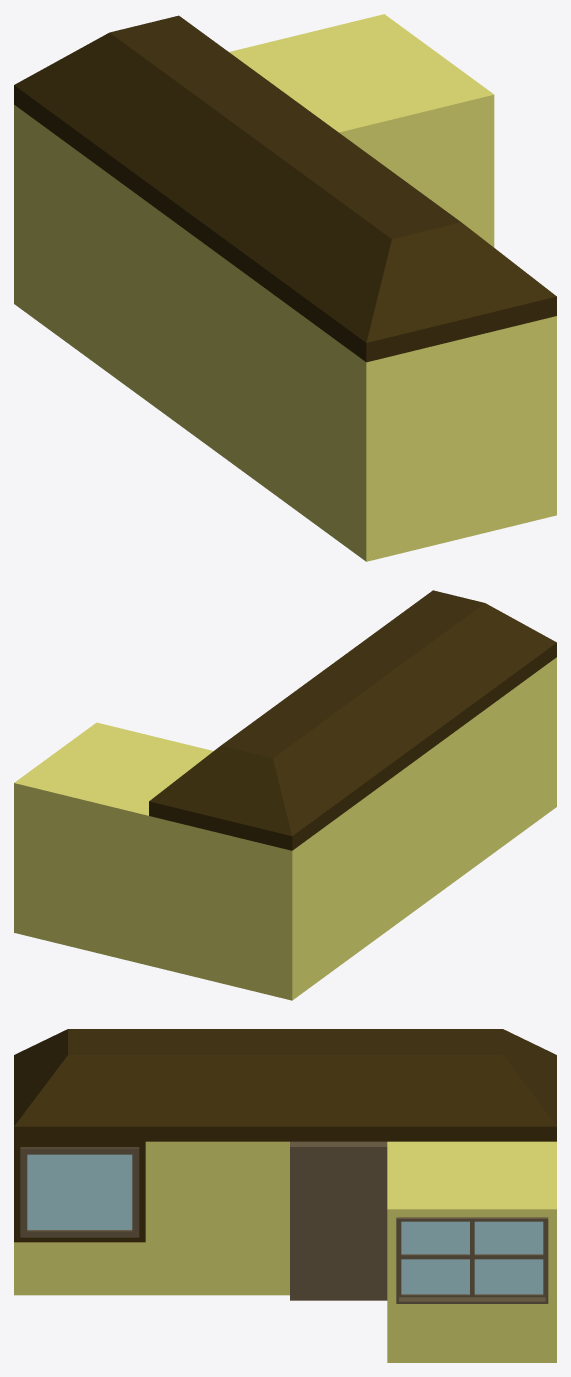
The model's file is Gouse Yella.fbx.
3 views of the same model, one above another, from view 1: azimuth 30°, elevation 25°; view 2: azimuth 150°, elevation 25°; view 3: azimuth 270°, elevation 25° (orthographic). The views are drawn at different scales.
Visible parts, largest first — view 1: Cube.003; view 2: Cube.003; view 3: Cube.003.
Part boxes in pixels (<box>): Cube.003: <box>14,14,556,561</box>; Cube.003: <box>14,590,556,1000</box>; Cube.003: <box>14,1029,556,1362</box>.
Size of the model in its own units: 7607 by 5464 by 12368.
